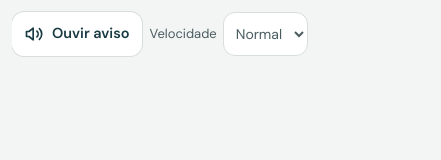
Test: Leitura por voz › se a voz do aparelho não iniciar (caso do iPhone), usa a voz do servidor num <audio> desbloqueado no toque
Click the button "Ouvir aviso". click: (77, 34)
box: [12, 12, 142, 56]
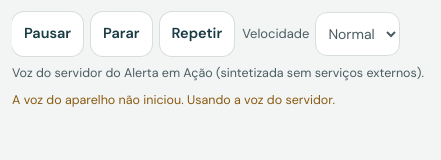
Now the text "Voz do servidor do Alerta em Ação" is shown, box [12, 65, 424, 81]
